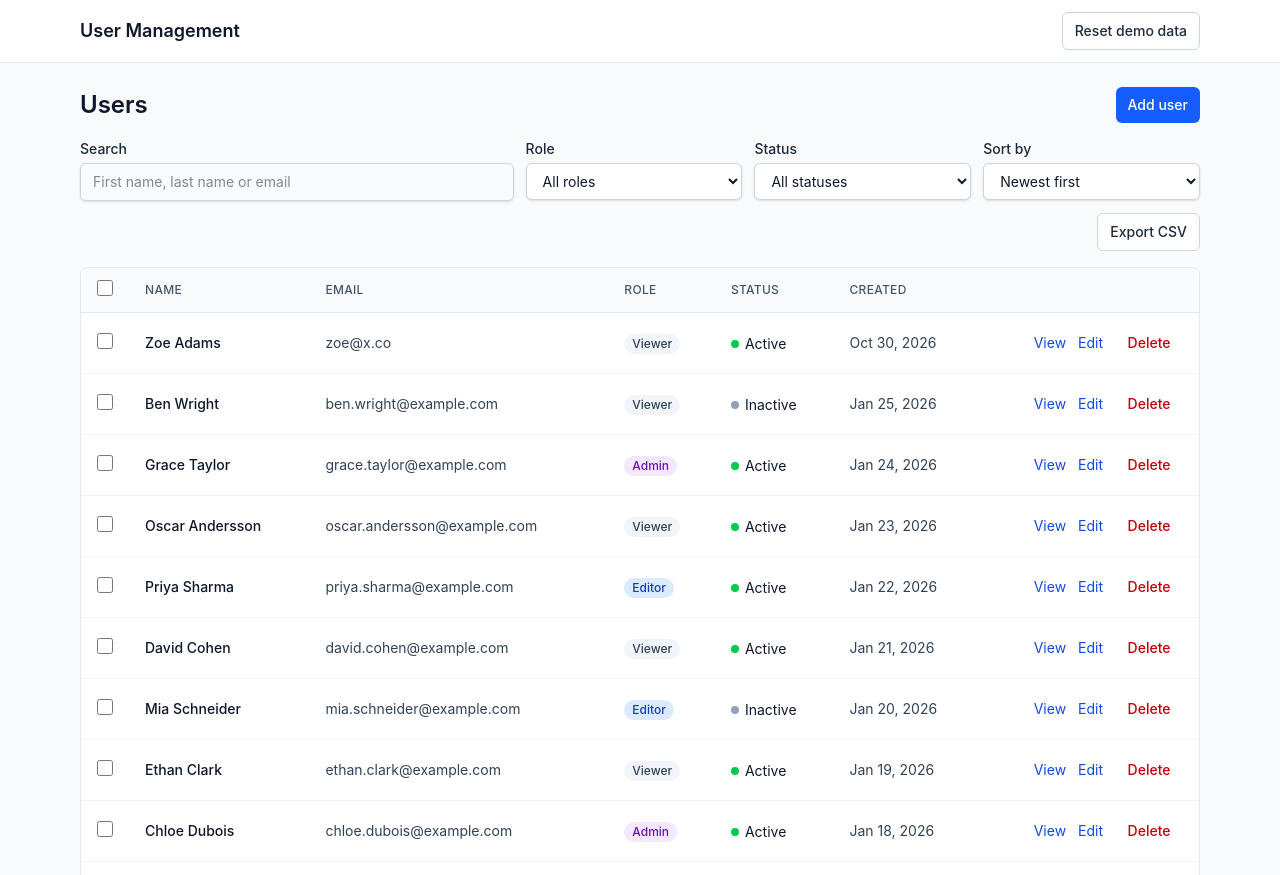
Test: Reset demo data › asks first; Cancel changes nothing
Step 1. Click the button "Reset demo data" → {"x": 1131, "y": 31}, box [1062, 12, 1200, 50]
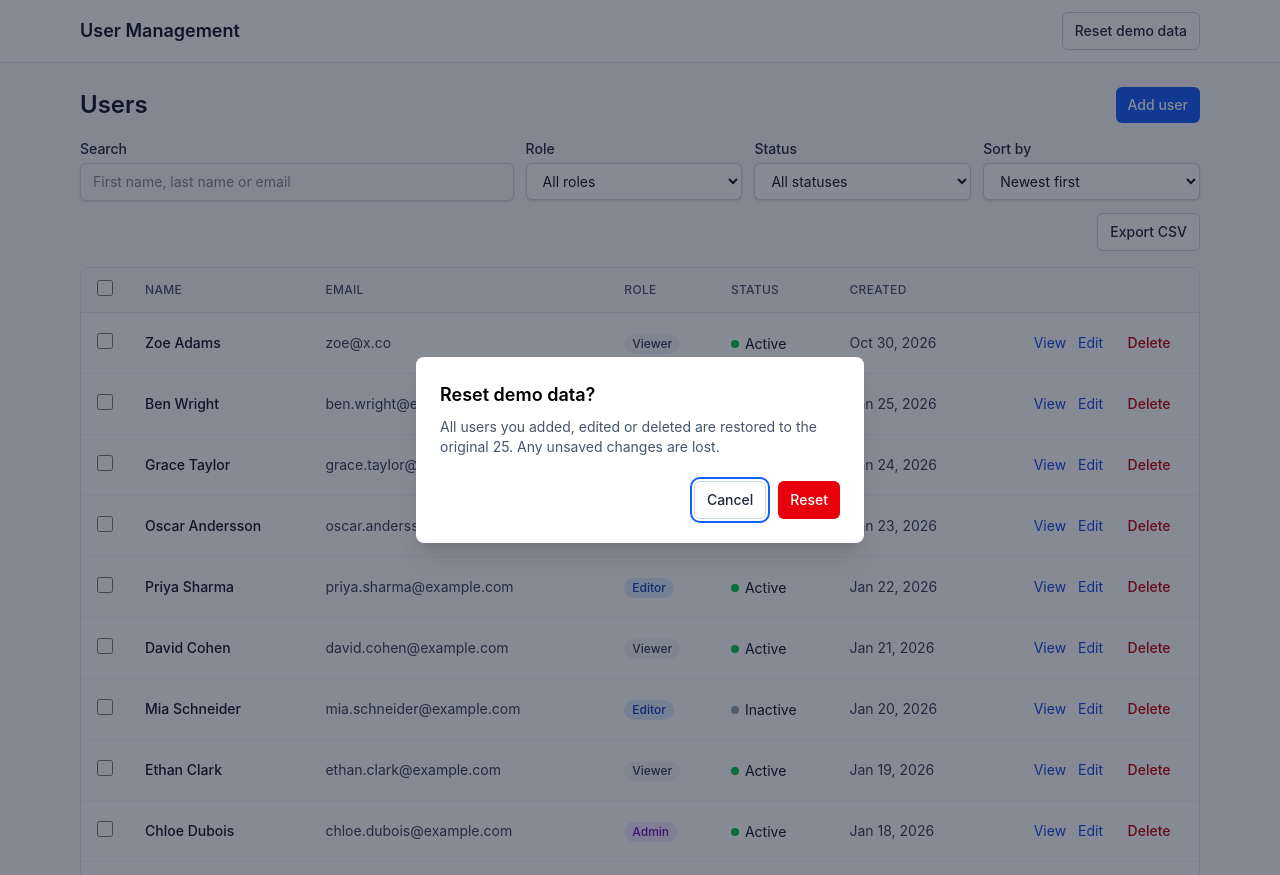
Step 2. Click the button "Cancel" → {"x": 730, "y": 500}, box [694, 481, 766, 519]
(page scrolled)
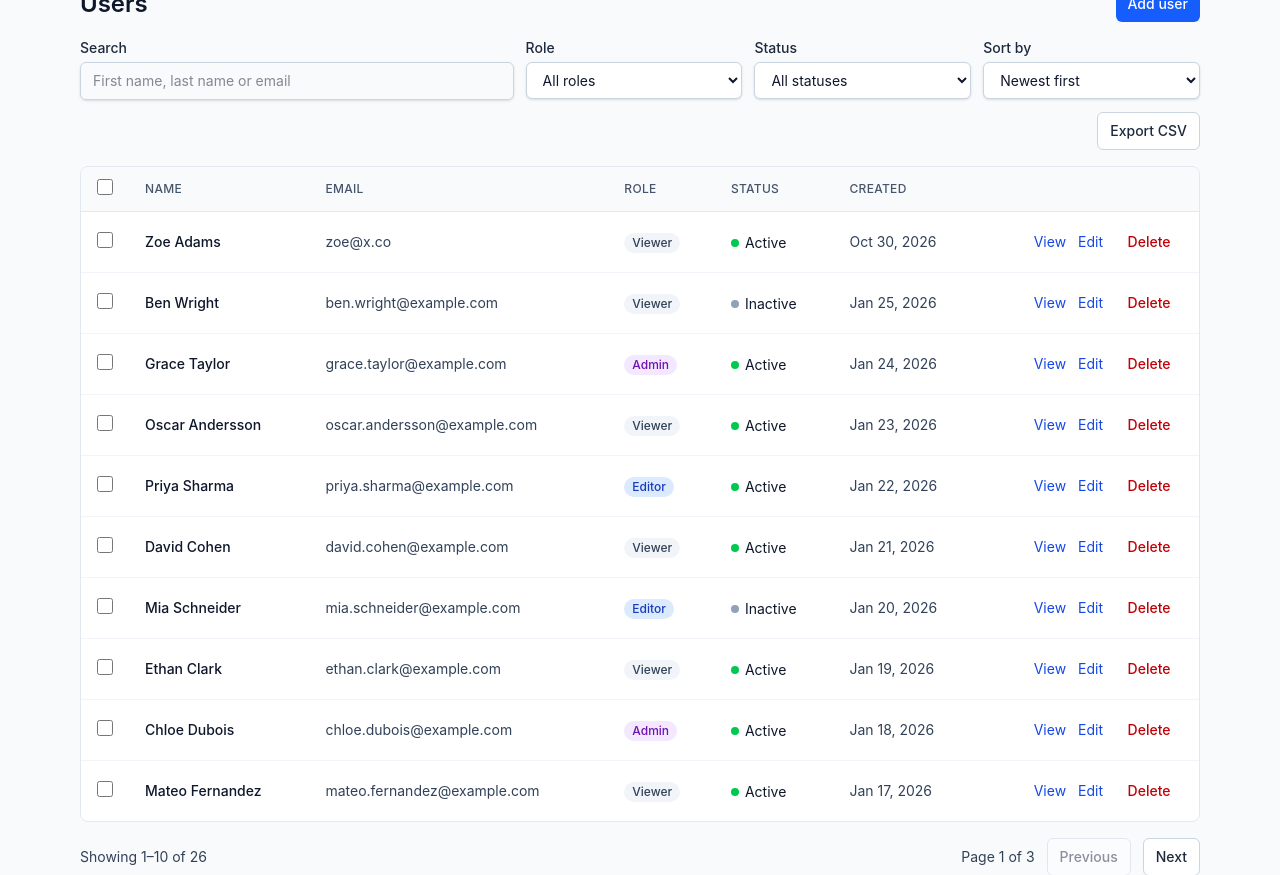
Expected: the text "Showing 1–10 of 26" is shown, [80, 847, 207, 867]
Expected: the dialog is gone
